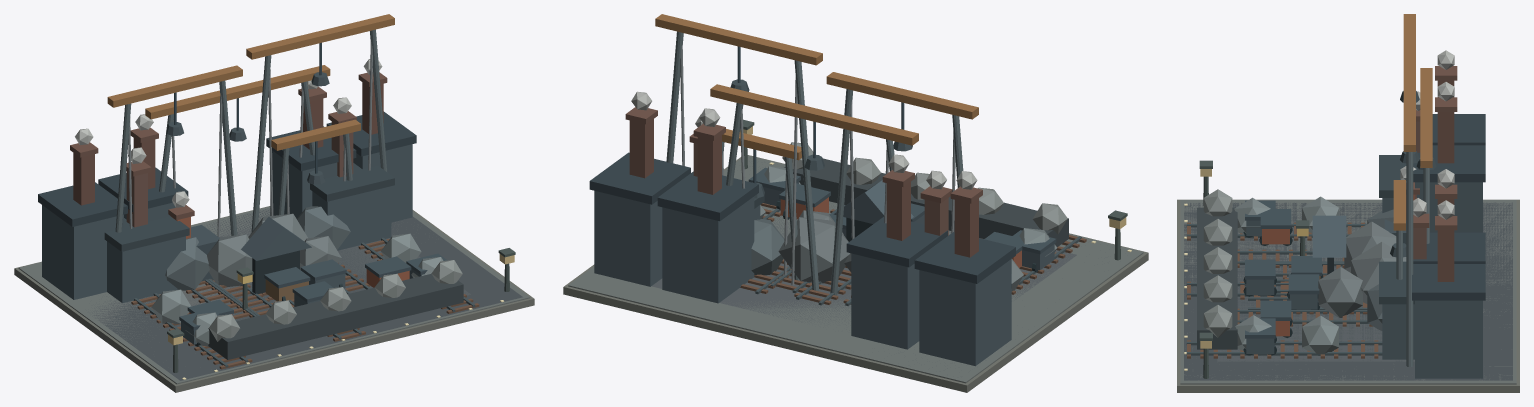
File: mine-lv4.obj
3 views of the same model, side by side, from view 1: azimuth 30°, elevation 25°; view 2: azimuth 150°, elevation 25°; view 3: azimuth 270°, elevation 25° (orthographic). The views are drawn at different scales.
Parts seen in each view (by area): view 1: mine_5, mine_28, mine_31, mine_17, mine_29, mine_15, mine_1, mine_0, mine_25, mine_9, mine_3, mine_30 (+15 smaller); view 2: mine_5, mine_1, mine_29, mine_17, mine_0, mine_15, mine_30, mine_24, mine_31, mine_3, mine_16, mine_32 (+11 smaller); view 3: mine_28, mine_5, mine_1, mine_29, mine_0, mine_3, mine_24, mine_17, mine_9, mine_32, mine_31, mine_27 (+13 smaller).
Boxes of the visible parts, x1,y1,x2,y2 form: mine_5: (42, 144, 421, 344); mine_28: (92, 208, 522, 380); mine_31: (208, 273, 463, 359); mine_17: (107, 14, 394, 150); mine_29: (38, 111, 416, 226); mine_15: (115, 29, 391, 235); mine_1: (18, 206, 530, 384); mine_0: (14, 206, 534, 392); mine_25: (104, 163, 394, 251); mine_9: (179, 253, 447, 330); mine_3: (207, 213, 341, 286); mine_30: (73, 82, 383, 205); mine_5: (594, 180, 1054, 366); mine_1: (568, 155, 1143, 383); mine_29: (589, 152, 1015, 283); mine_17: (655, 14, 978, 160); mine_0: (563, 155, 1148, 392); mine_15: (666, 31, 963, 295); mine_30: (629, 119, 978, 257); mine_24: (651, 202, 1076, 330); mine_31: (784, 158, 1068, 247); mine_3: (778, 210, 851, 283); mine_16: (680, 43, 955, 285); mine_32: (782, 142, 1067, 234); mine_28: (1184, 202, 1512, 380); mine_5: (1246, 182, 1482, 378); mine_1: (1180, 200, 1516, 384); mine_29: (1412, 114, 1485, 300); mine_0: (1177, 199, 1519, 392); mine_3: (1318, 221, 1406, 317); mine_24: (1217, 221, 1414, 361); mine_17: (1393, 14, 1432, 230); mine_9: (1245, 200, 1321, 338); mine_32: (1203, 189, 1232, 337); mine_31: (1197, 207, 1237, 349); mine_27: (1234, 196, 1338, 355).
Size of the model in its own units: 7.9 by 4.57 by 6.15.
